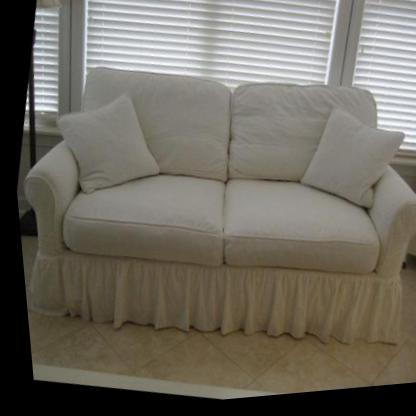Ceramic floor: (21, 306, 412, 403)
Sofa: (0, 0, 416, 404)
